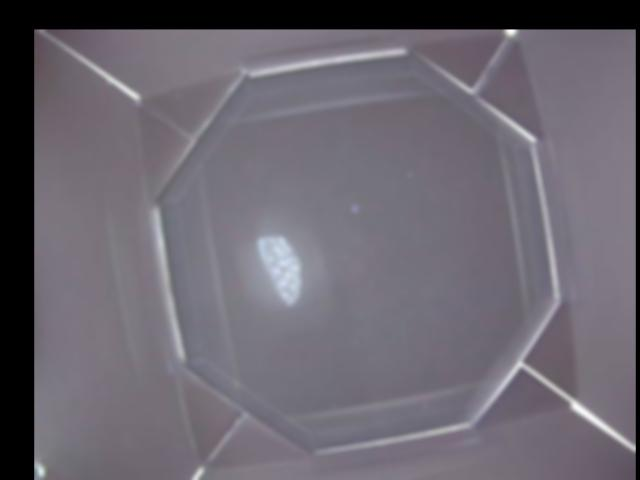China: (258, 238, 301, 302)
